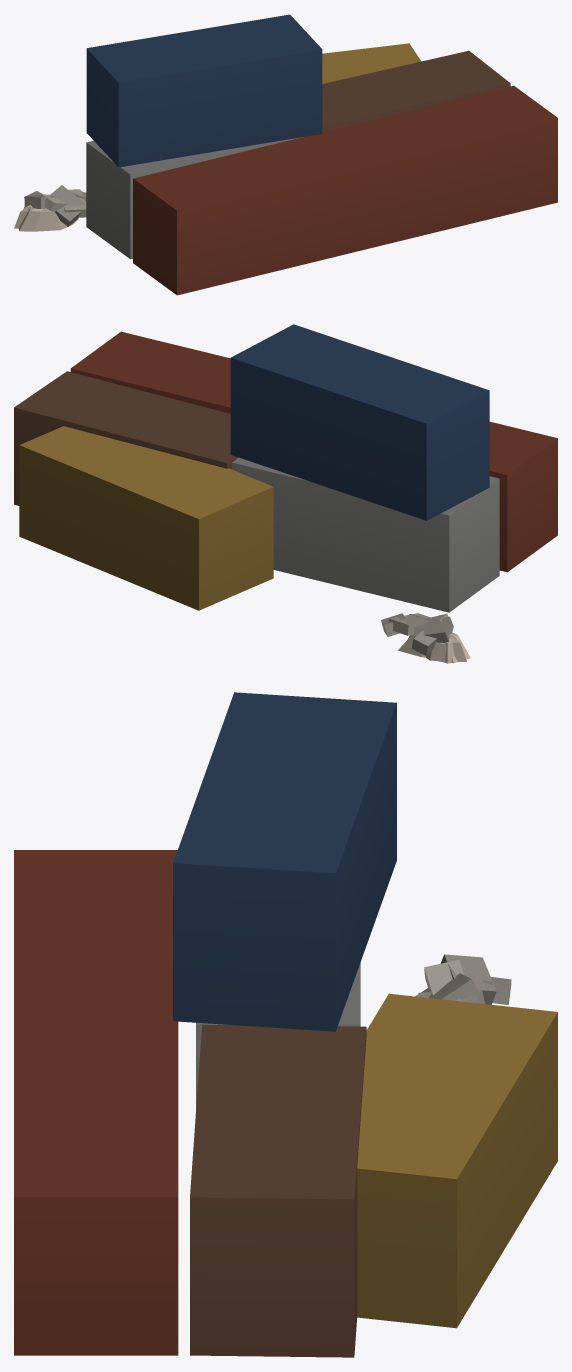
File: L18D_ContainersB.fbx
3 views of the same model, one above another, from view 1: azimuth 30°, elevation 25°; view 2: azimuth 150°, elevation 25°; view 3: azimuth 270°, elevation 25° (orthographic). The views are drawn at different scales.
Visible parts, largest first — view 1: L18D_ContainersB; view 2: L18D_ContainersB; view 3: L18D_ContainersB.
Boxes of the visible parts, x1=… form: L18D_ContainersB: x1=14, y1=14, x2=557, y2=295; L18D_ContainersB: x1=14, y1=324, x2=557, y2=663; L18D_ContainersB: x1=14, y1=692, x2=557, y2=1357.
Bounding box in the file's own units: 13.61 × 5.53 × 8.07.
